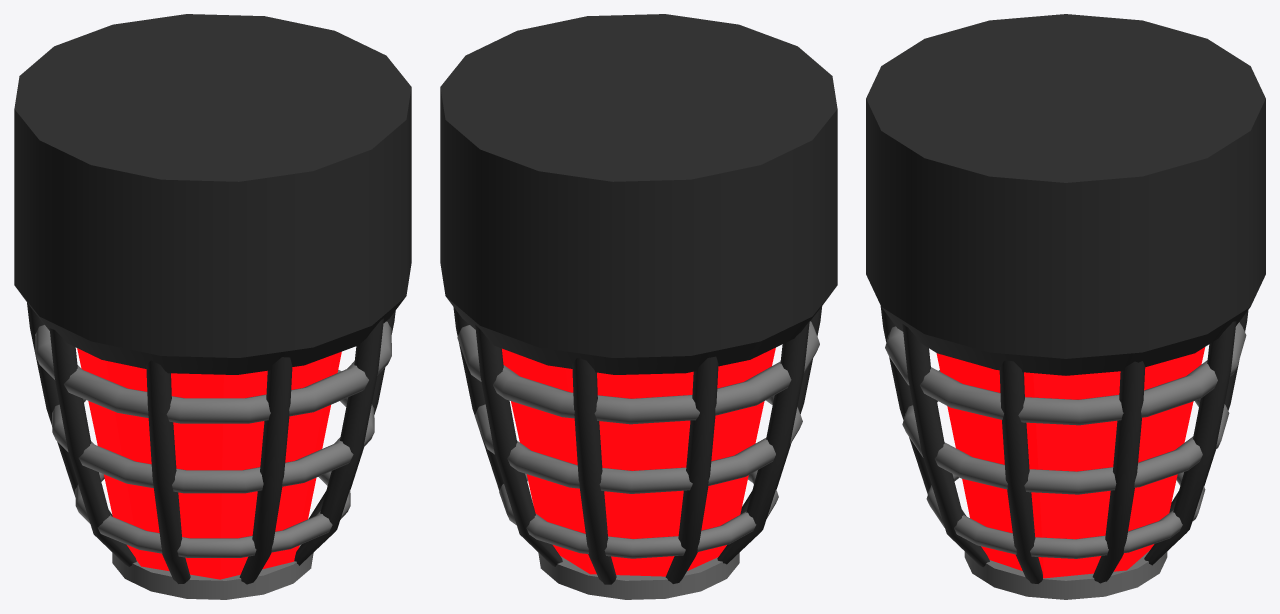
File: Warning Light.fbx
3 renders of one model, left to right at view 1: azimuth 30°, elevation 25°; view 2: azimuth 150°, elevation 25°; view 3: azimuth 270°, elevation 25°, orthographic.
Visible parts, largest first — view 1: Cylinder.001; view 2: Cylinder.001; view 3: Cylinder.001.
Boxes of the visible parts, bbox=[...] form: Cylinder.001: bbox=[14, 14, 411, 599]; Cylinder.001: bbox=[440, 14, 837, 599]; Cylinder.001: bbox=[866, 14, 1265, 599].
Bounding box in the file's own units: 32.55 × 42.5 × 32.55.
